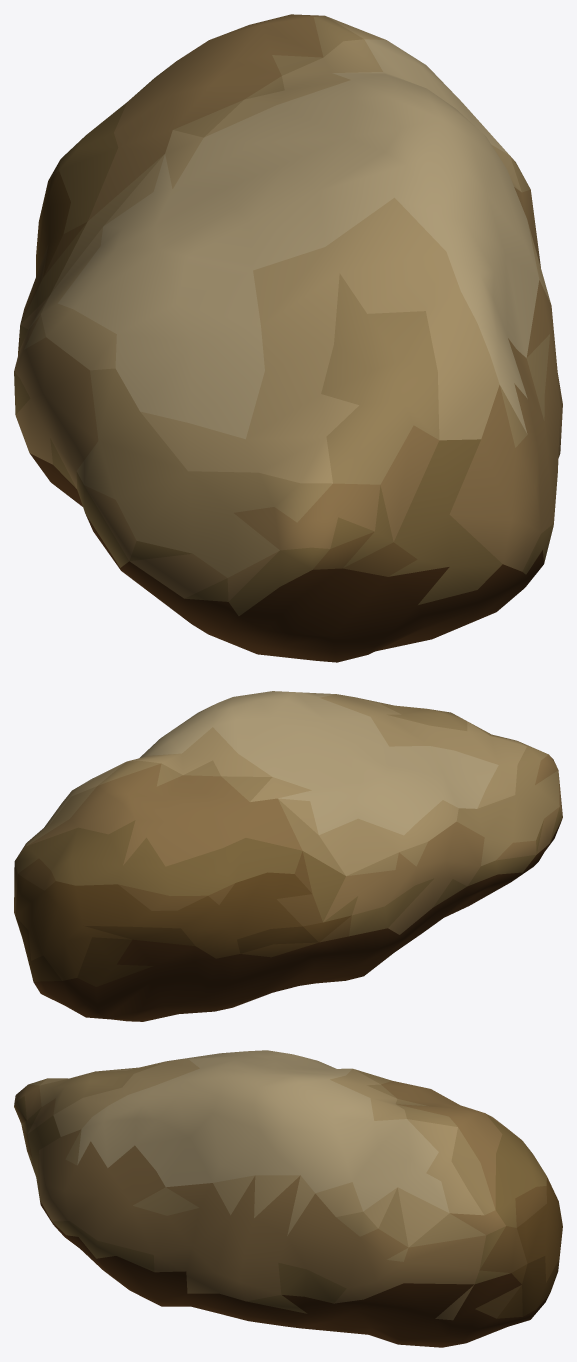
File: desert_rock_tip.glb
3 views of the same model, one above another, from view 1: azimuth 30°, elevation 25°; view 2: azimuth 150°, elevation 25°; view 3: azimuth 270°, elevation 25° (orthographic). The views are drawn at different scales.
Visible parts, largest first — view 1: desert_rock_tip; view 2: desert_rock_tip; view 3: desert_rock_tip.
Boxes of the visible parts, x1,y1,x2,y2 form: desert_rock_tip: (14, 14, 562, 662); desert_rock_tip: (14, 691, 562, 1021); desert_rock_tip: (14, 1050, 562, 1347).
Bounding box in the file's own units: 4.79 × 3.29 × 6.52.
